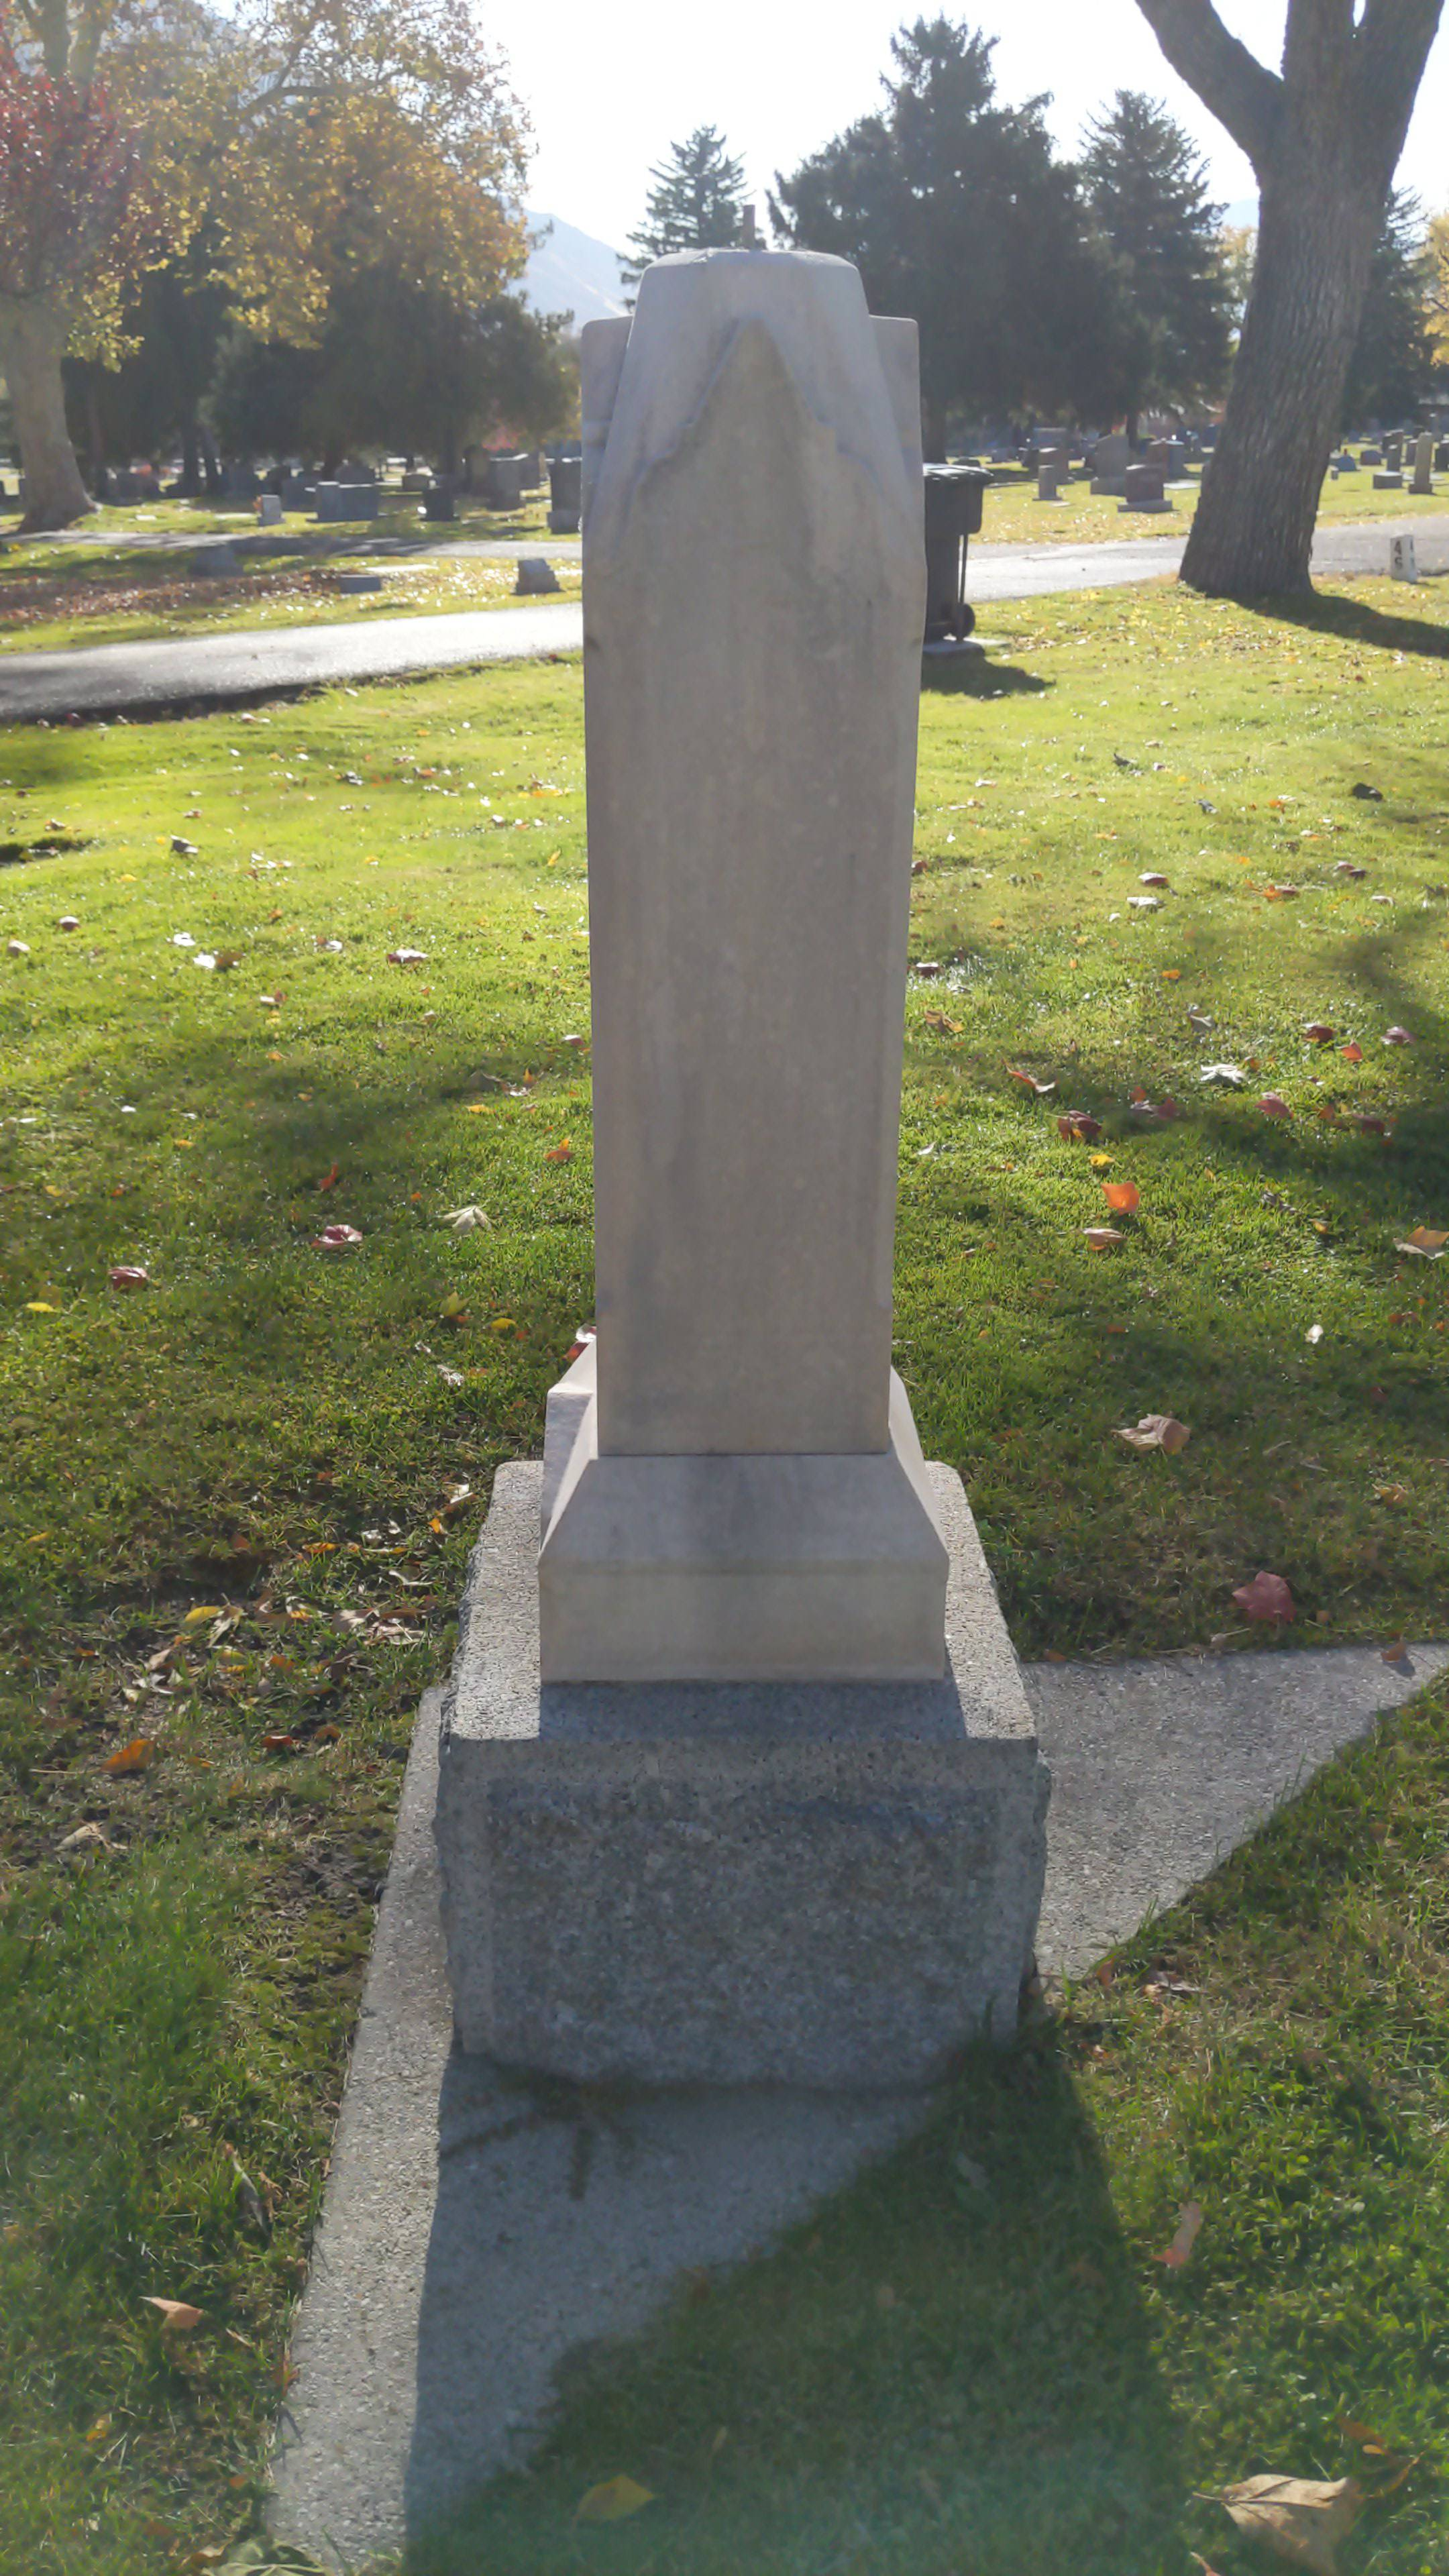obelisk: (534, 260, 950, 1668)
